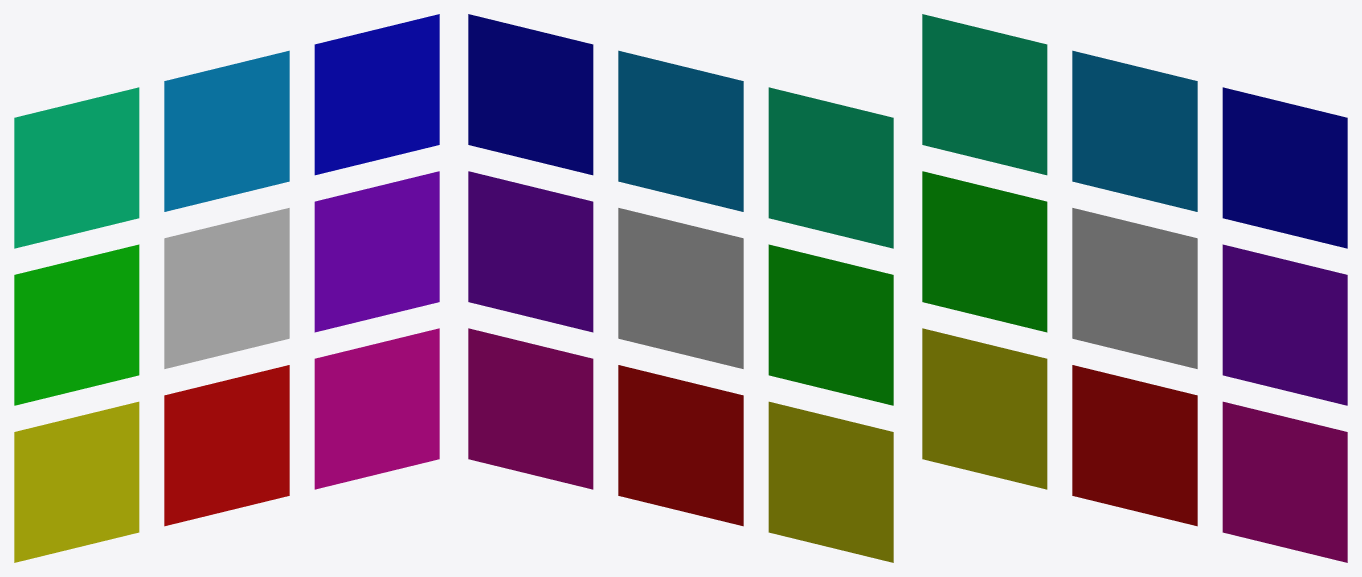
The model's file is ColorGrid.fbx.
The picture shows the model from 3 angles, left to right: view 1: azimuth 30°, elevation 25°; view 2: azimuth 150°, elevation 25°; view 3: azimuth 330°, elevation 25°; orthographic projection.
Visible parts, largest first — view 1: ColorGrid; view 2: ColorGrid; view 3: ColorGrid.
Boxes of the visible parts, x1=… form: ColorGrid: x1=14, y1=14, x2=439, y2=562; ColorGrid: x1=468, y1=14, x2=893, y2=562; ColorGrid: x1=922, y1=14, x2=1347, y2=562.
Size of the model in its own units: 136 by 136 by 2.38e-06.
